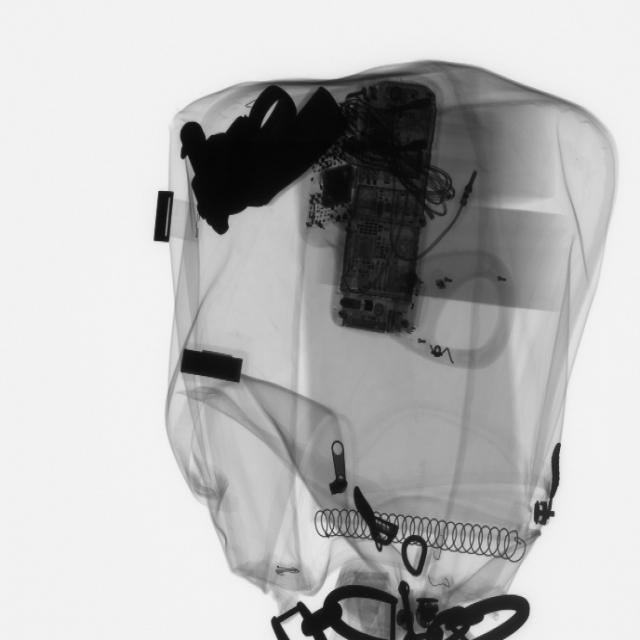GUN: (178, 81, 344, 239), (318, 589, 537, 640)
